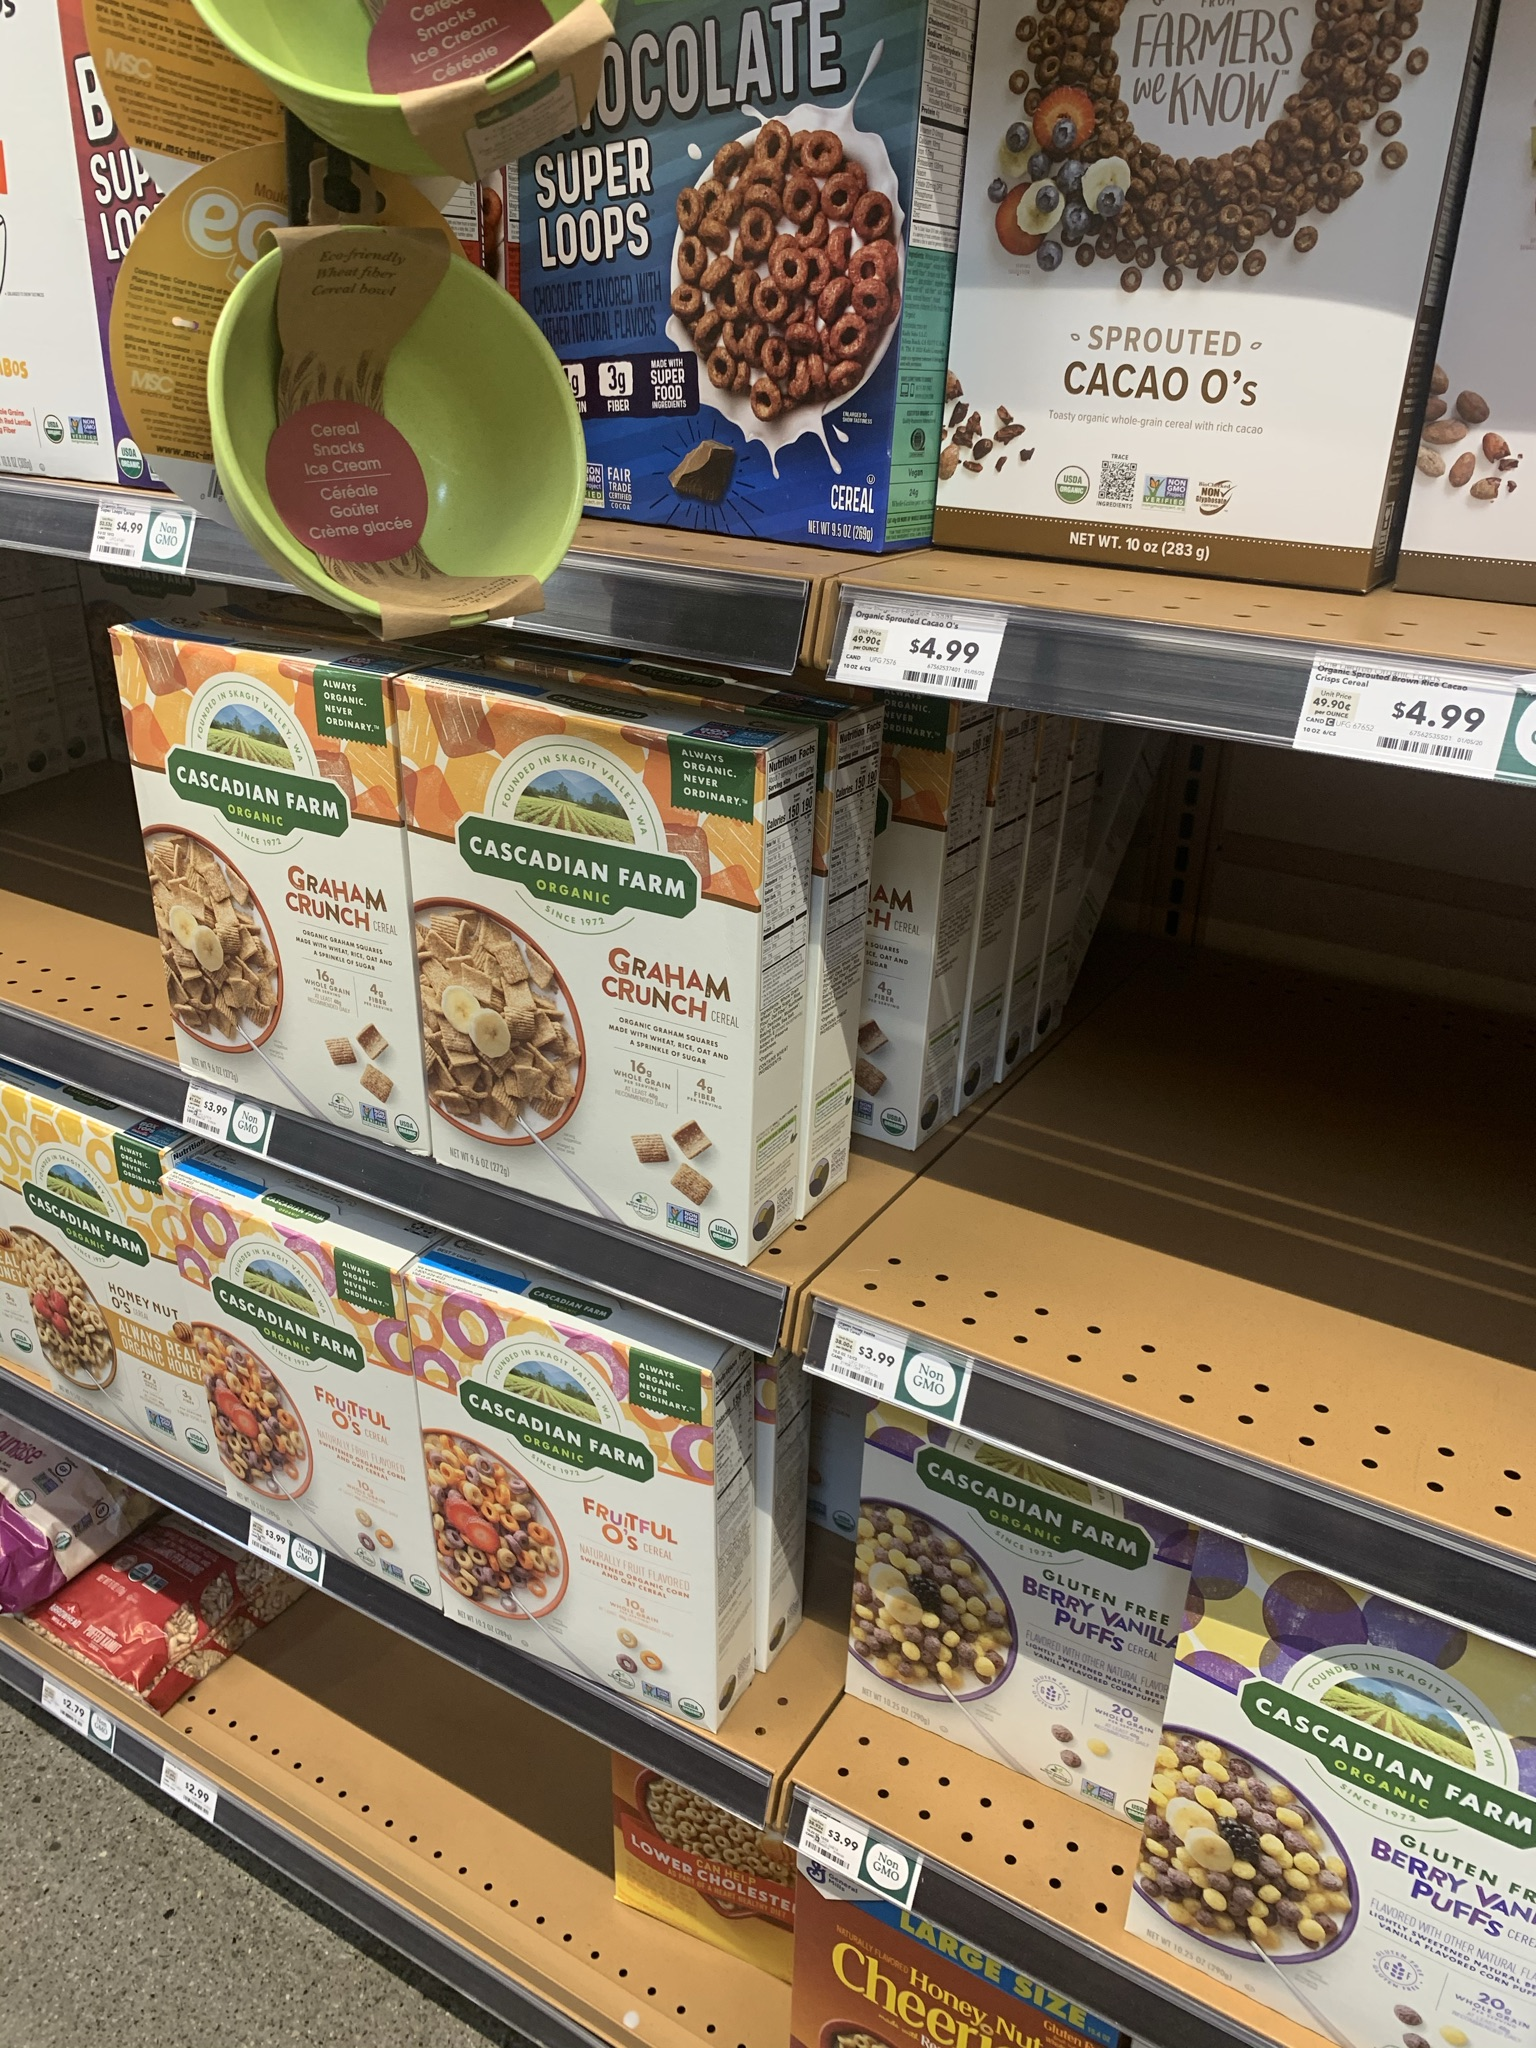Cereal cascadian: (442, 693, 774, 1214), (1187, 1584, 1536, 2048), (110, 634, 419, 1121), (424, 1284, 742, 1725), (865, 1421, 1183, 1829), (173, 1193, 424, 1569), (32, 1219, 152, 1347)
